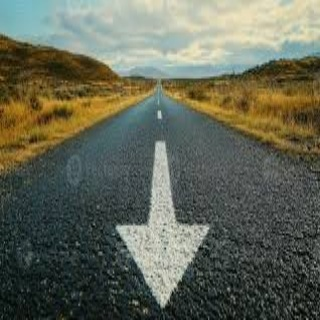road_oneway: (103, 133, 207, 312)
